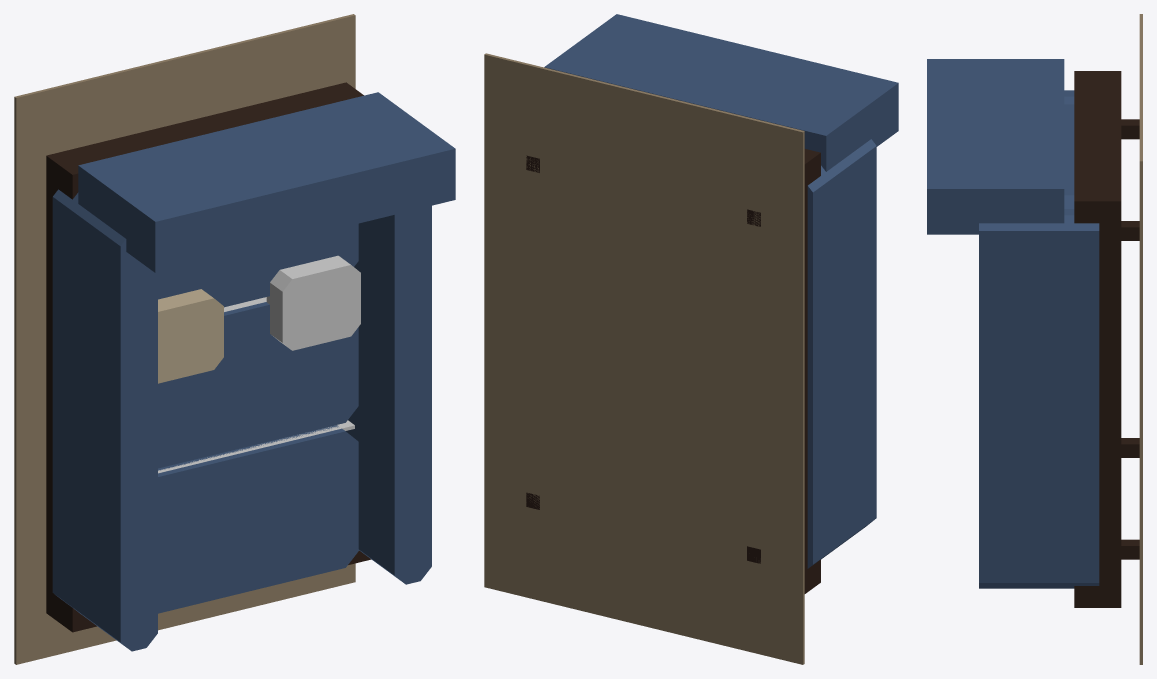
Rendered from SM_BSW_Department_SofaVignette_B.obj.
The picture shows the model from 3 angles, left to right: view 1: azimuth 30°, elevation 25°; view 2: azimuth 150°, elevation 25°; view 3: azimuth 270°, elevation 25°; orthographic projection. The views are drawn at different scales.
Visible parts, largest first — view 1: SM_BSW_Department_SofaVignette_B; view 2: SM_BSW_Department_SofaVignette_B; view 3: SM_BSW_Department_SofaVignette_B.
Boxes of the visible parts, left/top/right/bottom form: SM_BSW_Department_SofaVignette_B: left=14, top=14, right=455, bottom=664; SM_BSW_Department_SofaVignette_B: left=484, top=14, right=898, bottom=664; SM_BSW_Department_SofaVignette_B: left=927, top=14, right=1142, bottom=664.
Size of the model in its own units: 208 by 332 by 129.
